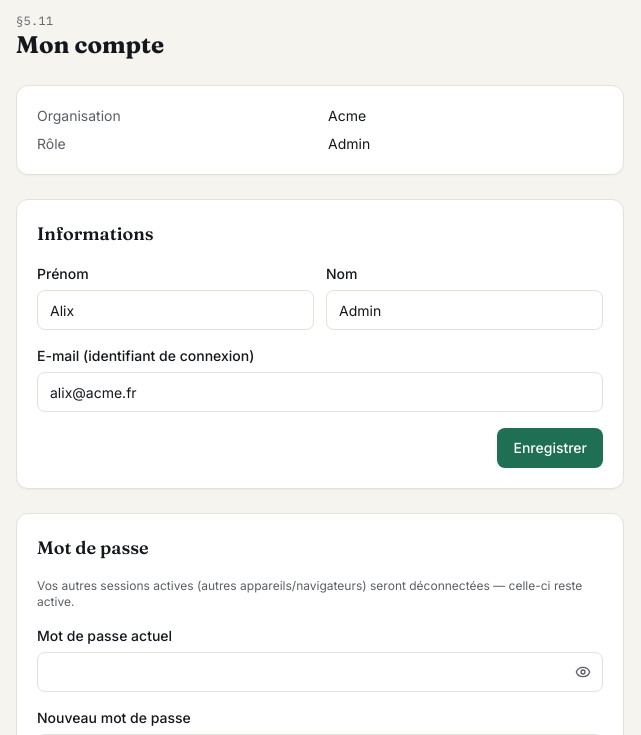
it: §6.25 lot E — AccountPage › Informations : inactif sans modification, actif après, inactif après enregistrement réussi
Replace the text in the field labelled "Prénom" with "Alexandra". click: (176, 310)
box: [37,290,314,330]
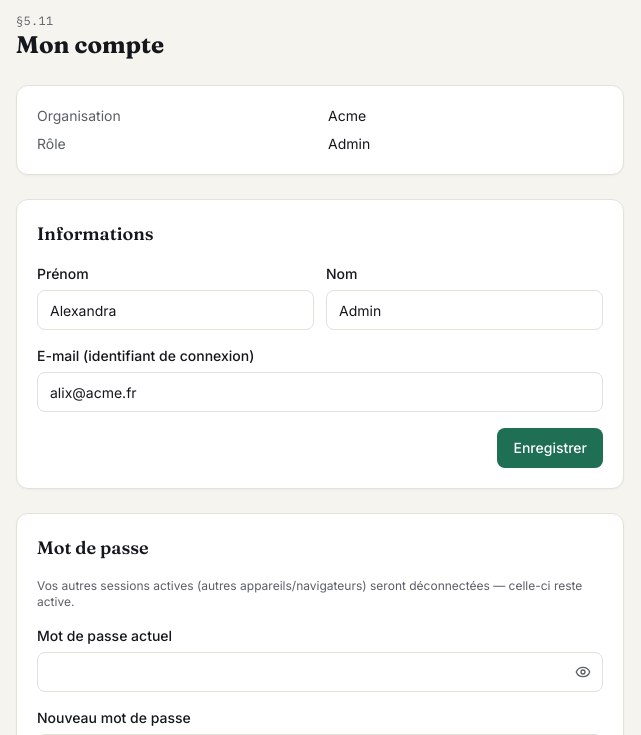
Click the button "Enregistrer". click: (550, 448)
box: [498,428,603,468]
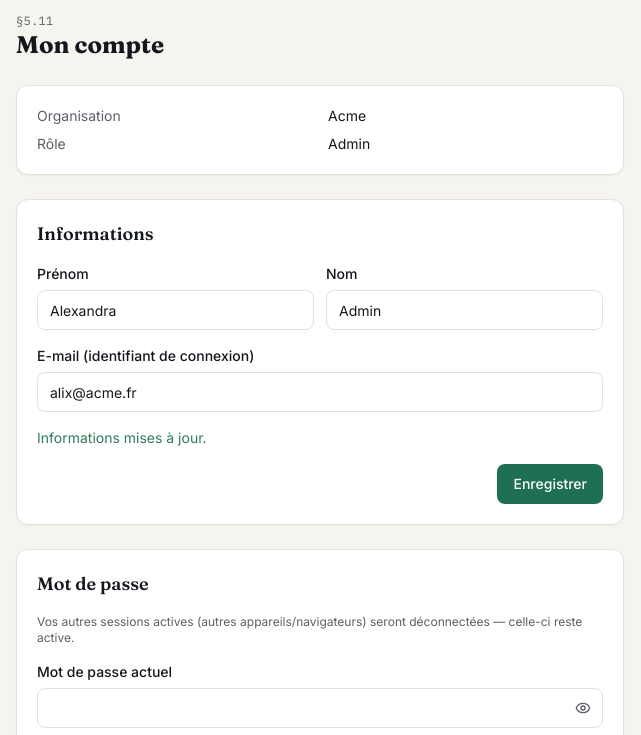
Now the text "Informations mises à jour." is shown, box [37,429,207,446]
